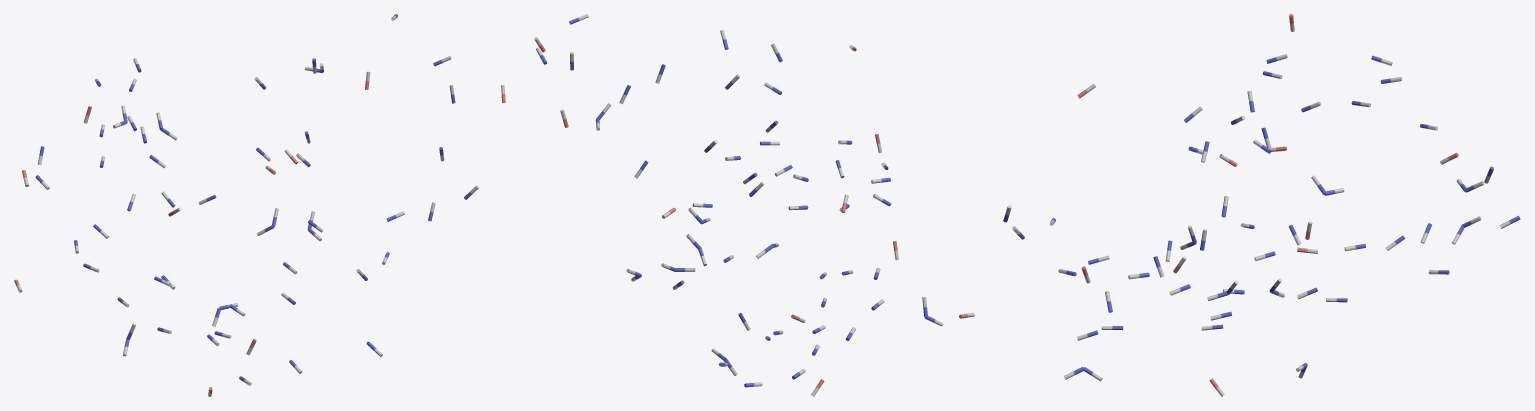
The model's file is 1crn__sticks__default__H.glb.
3 renders of one model, left to right at view 1: azimuth 30°, elevation 25°; view 2: azimuth 150°, elevation 25°; view 3: azimuth 270°, elevation 25°, orthographic. The views are drawn at different scales.
Parts seen in each view (by area): view 1: Renderer Node; view 2: Renderer Node; view 3: Renderer Node.
Boxes of the visible parts, left/top/right/bottom form: Renderer Node: left=14, top=14, right=505, bottom=396; Renderer Node: left=534, top=14, right=974, bottom=396; Renderer Node: left=1003, top=14, right=1520, bottom=396.
Bounding box in the file's own units: 28 × 19.13 × 24.42.
